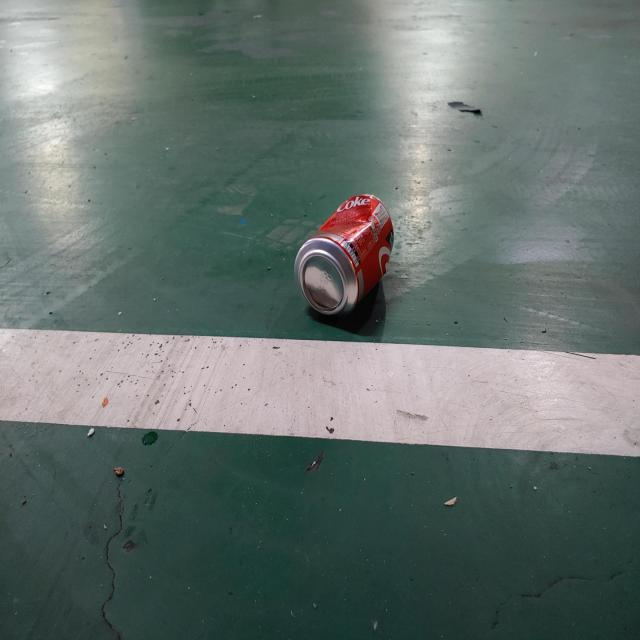can: (295, 194, 394, 314)
